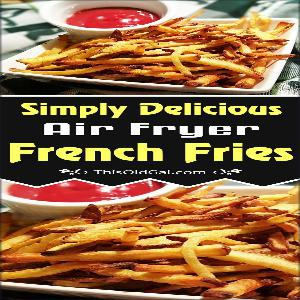fries: (27, 213, 284, 289)
